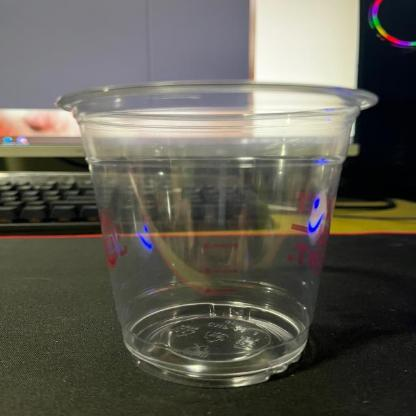Plastic Cup: (55, 77, 384, 389)
